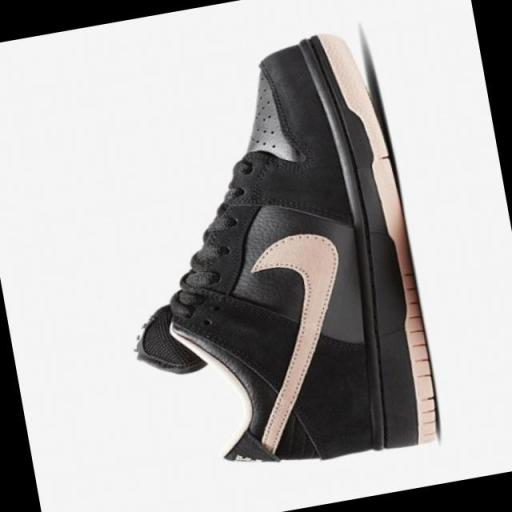Nike: (219, 212, 374, 458)
